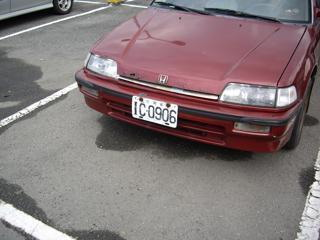plate: (130, 94, 179, 129)
